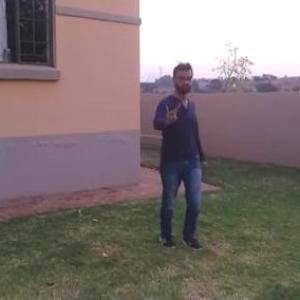takeoff-hand: (159, 96, 185, 128)
